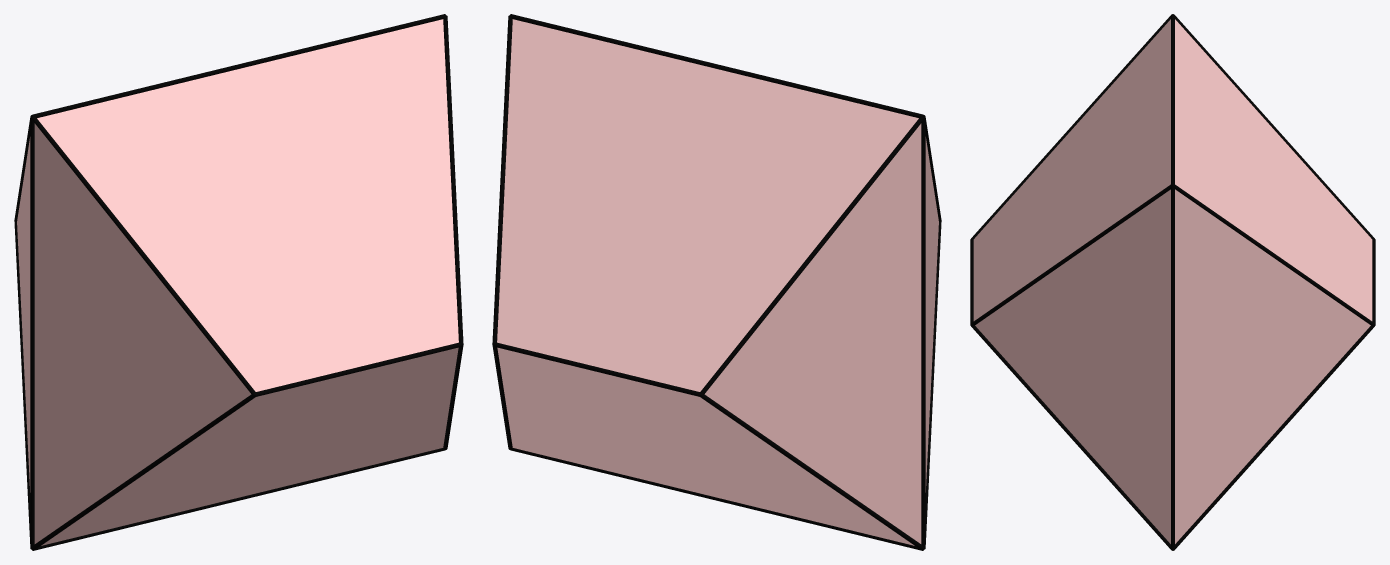
File: quiz_102.dae
The picture shows the model from 3 angles, left to right: view 1: azimuth 30°, elevation 25°; view 2: azimuth 150°, elevation 25°; view 3: azimuth 270°, elevation 25°; orthographic projection. The views are drawn at different scales.
Visible parts, largest first — view 1: visgeom_0, geometry_edges0_0_quiz_102.off; view 2: visgeom_0, geometry_edges0_0_quiz_102.off; view 3: visgeom_0, geometry_edges0_0_quiz_102.off.
Part boxes in pixels (x1,y1,x2,y2): visgeom_0: [17, 19, 458, 545]; geometry_edges0_0_quiz_102.off: [14, 14, 463, 550]; visgeom_0: [497, 19, 938, 545]; geometry_edges0_0_quiz_102.off: [492, 14, 941, 550]; visgeom_0: [973, 19, 1372, 543]; geometry_edges0_0_quiz_102.off: [970, 14, 1375, 550].
Bounding box in the file's own units: 2.02 × 2.02 × 2.02.
